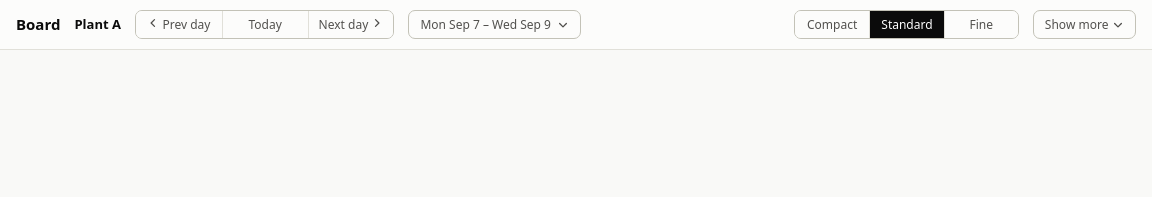
Test: TB-1..TB-4: the band's labelled groups, cascaded from the three demo roles' rights › TB-2: a placing supervisor sees Apply and Save, but not Copy week (S35 stays admin-only)
Click the button "Show more" at (1084, 25), box [1033,10,1136,39]
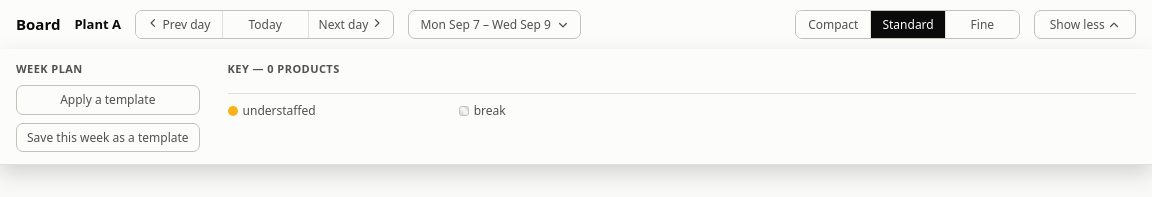
Now the heading "Week plan" is shown, box [16,61,83,76]
Now the button "Apply a template" is shown, box [16,85,200,115]
Now the button "Save this week as a template" is shown, box [16,123,200,152]
